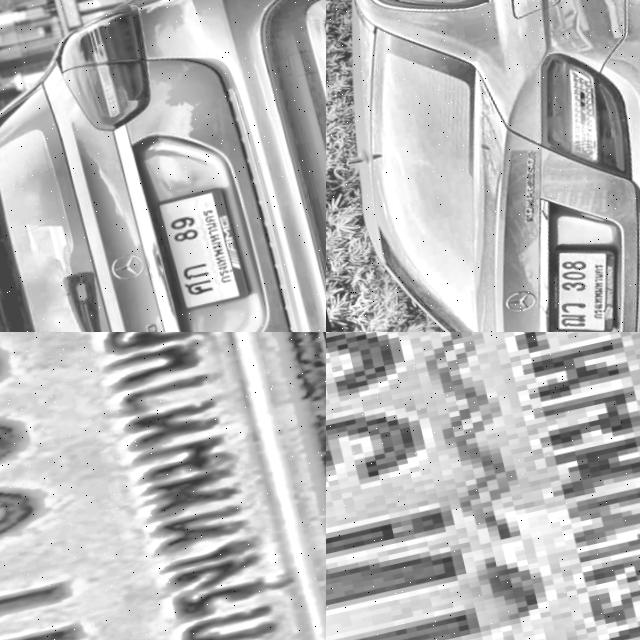license-plate: (0, 332, 326, 640), (326, 332, 640, 640), (147, 183, 250, 314), (523, 230, 635, 332)
